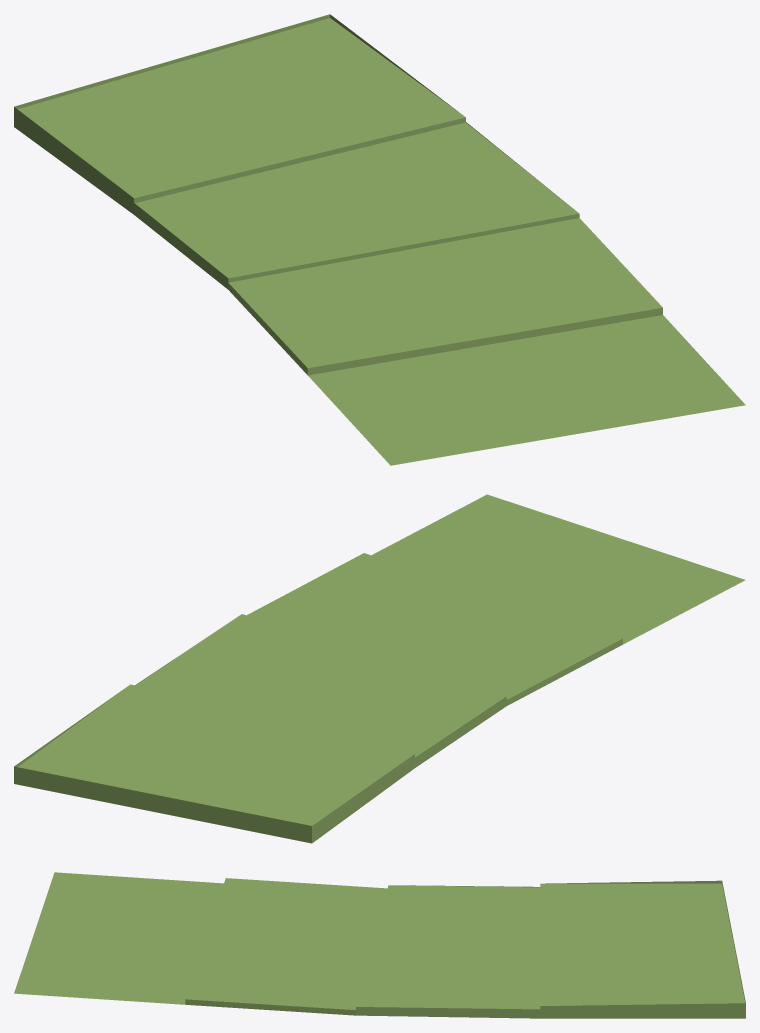
The model's file is forest floor.FBX.
The picture shows the model from 3 angles, top to bottom: view 1: azimuth 30°, elevation 25°; view 2: azimuth 150°, elevation 25°; view 3: azimuth 270°, elevation 25°; orthographic projection. The views are drawn at different scales.
Parts seen in each view (by area): view 1: floor; view 2: floor; view 3: floor.
Part boxes in pixels (x1=…): floor: x1=14, y1=14, x2=745, y2=465; floor: x1=14, y1=494, x2=745, y2=843; floor: x1=14, y1=872, x2=745, y2=1018.
Bounding box in the file's own units: 49.95 × 2.45 × 106.
